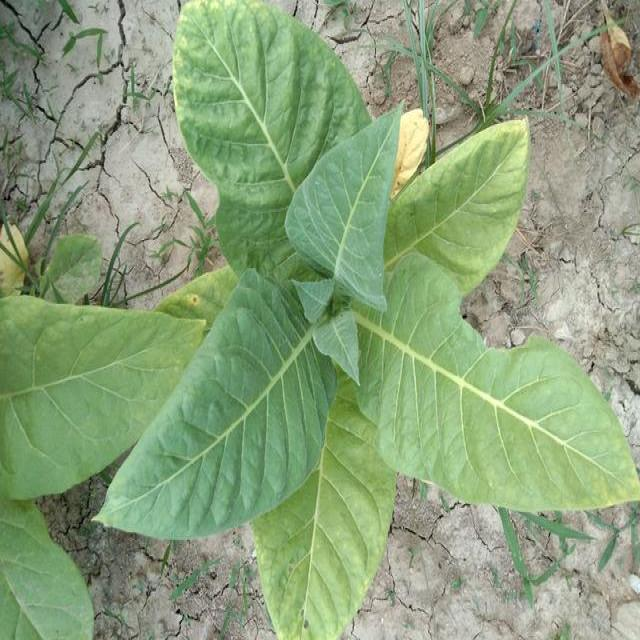crop: (106, 9, 632, 630)
